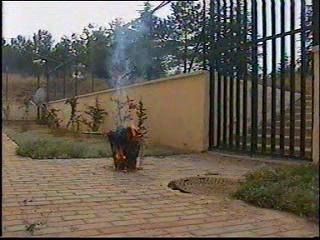smoke: (115, 31, 137, 88)
